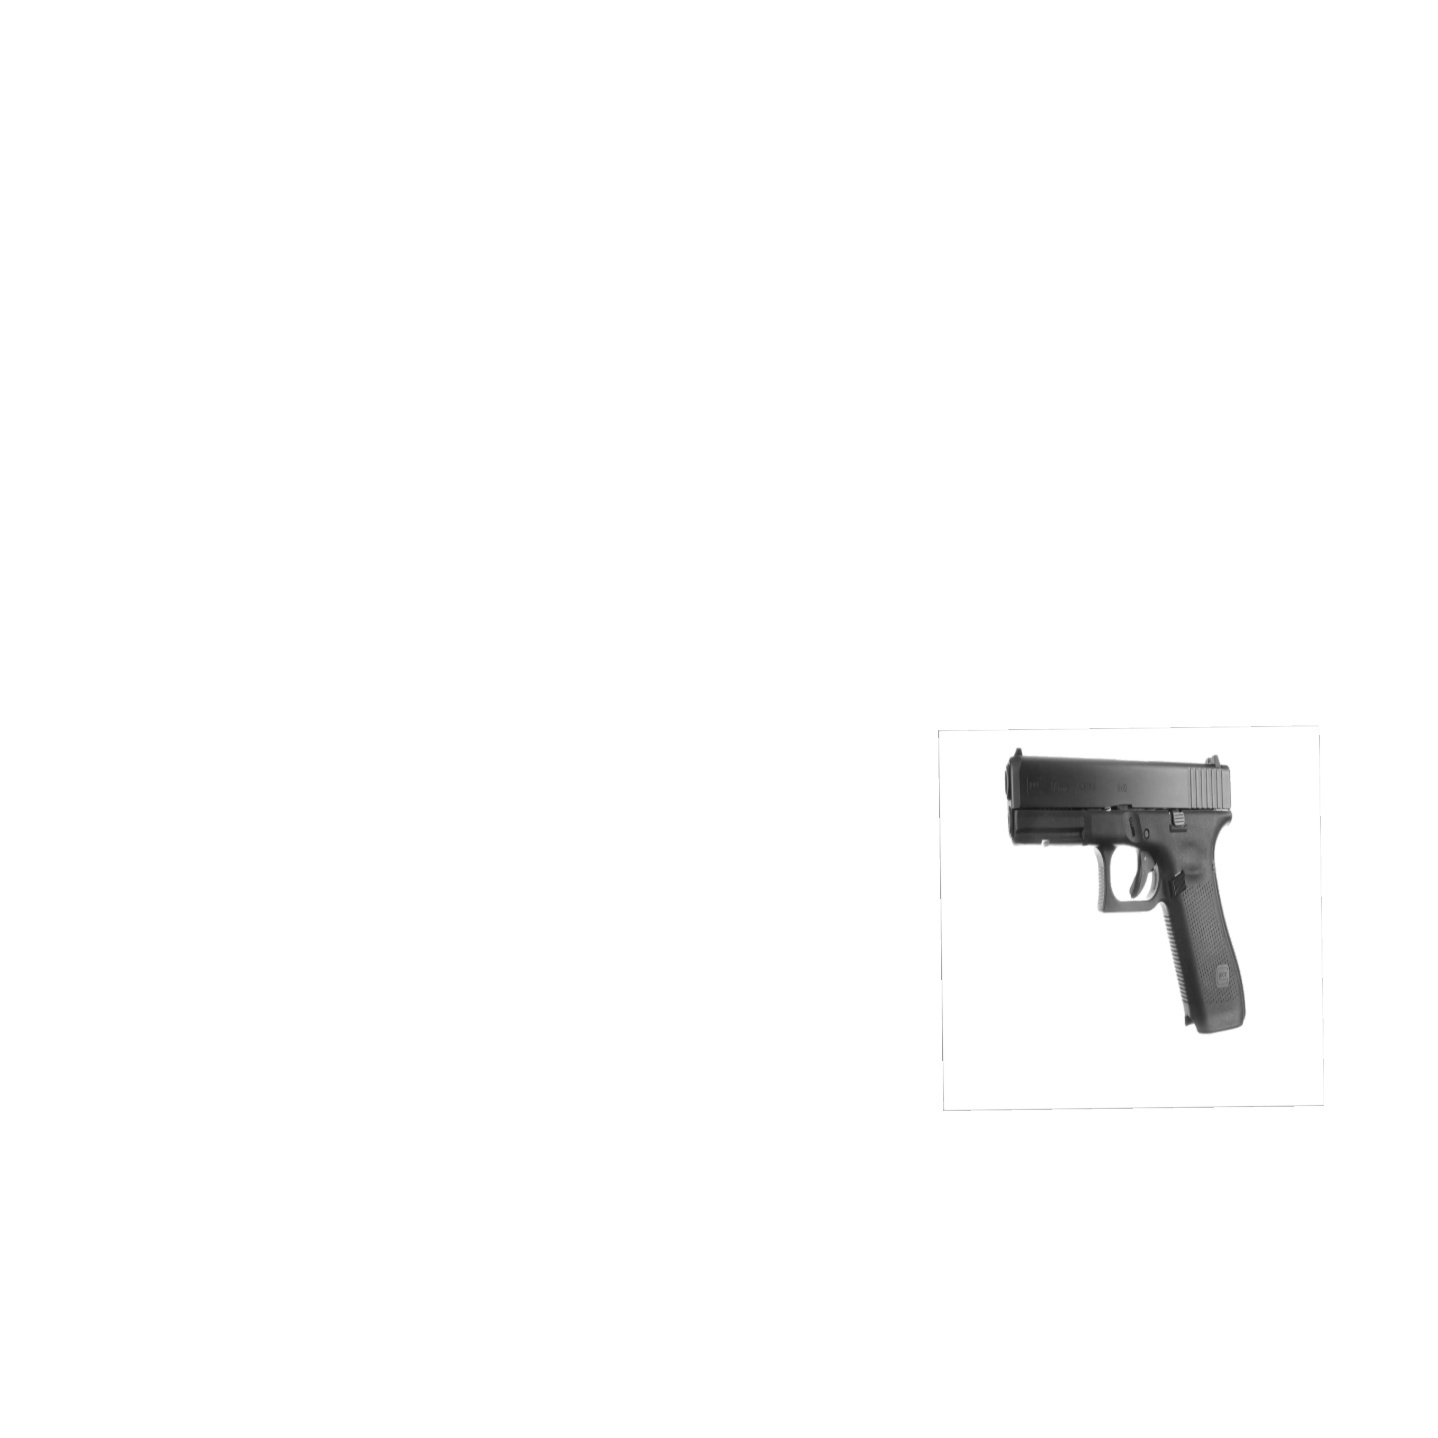gun: (1003, 737, 1250, 1036)
